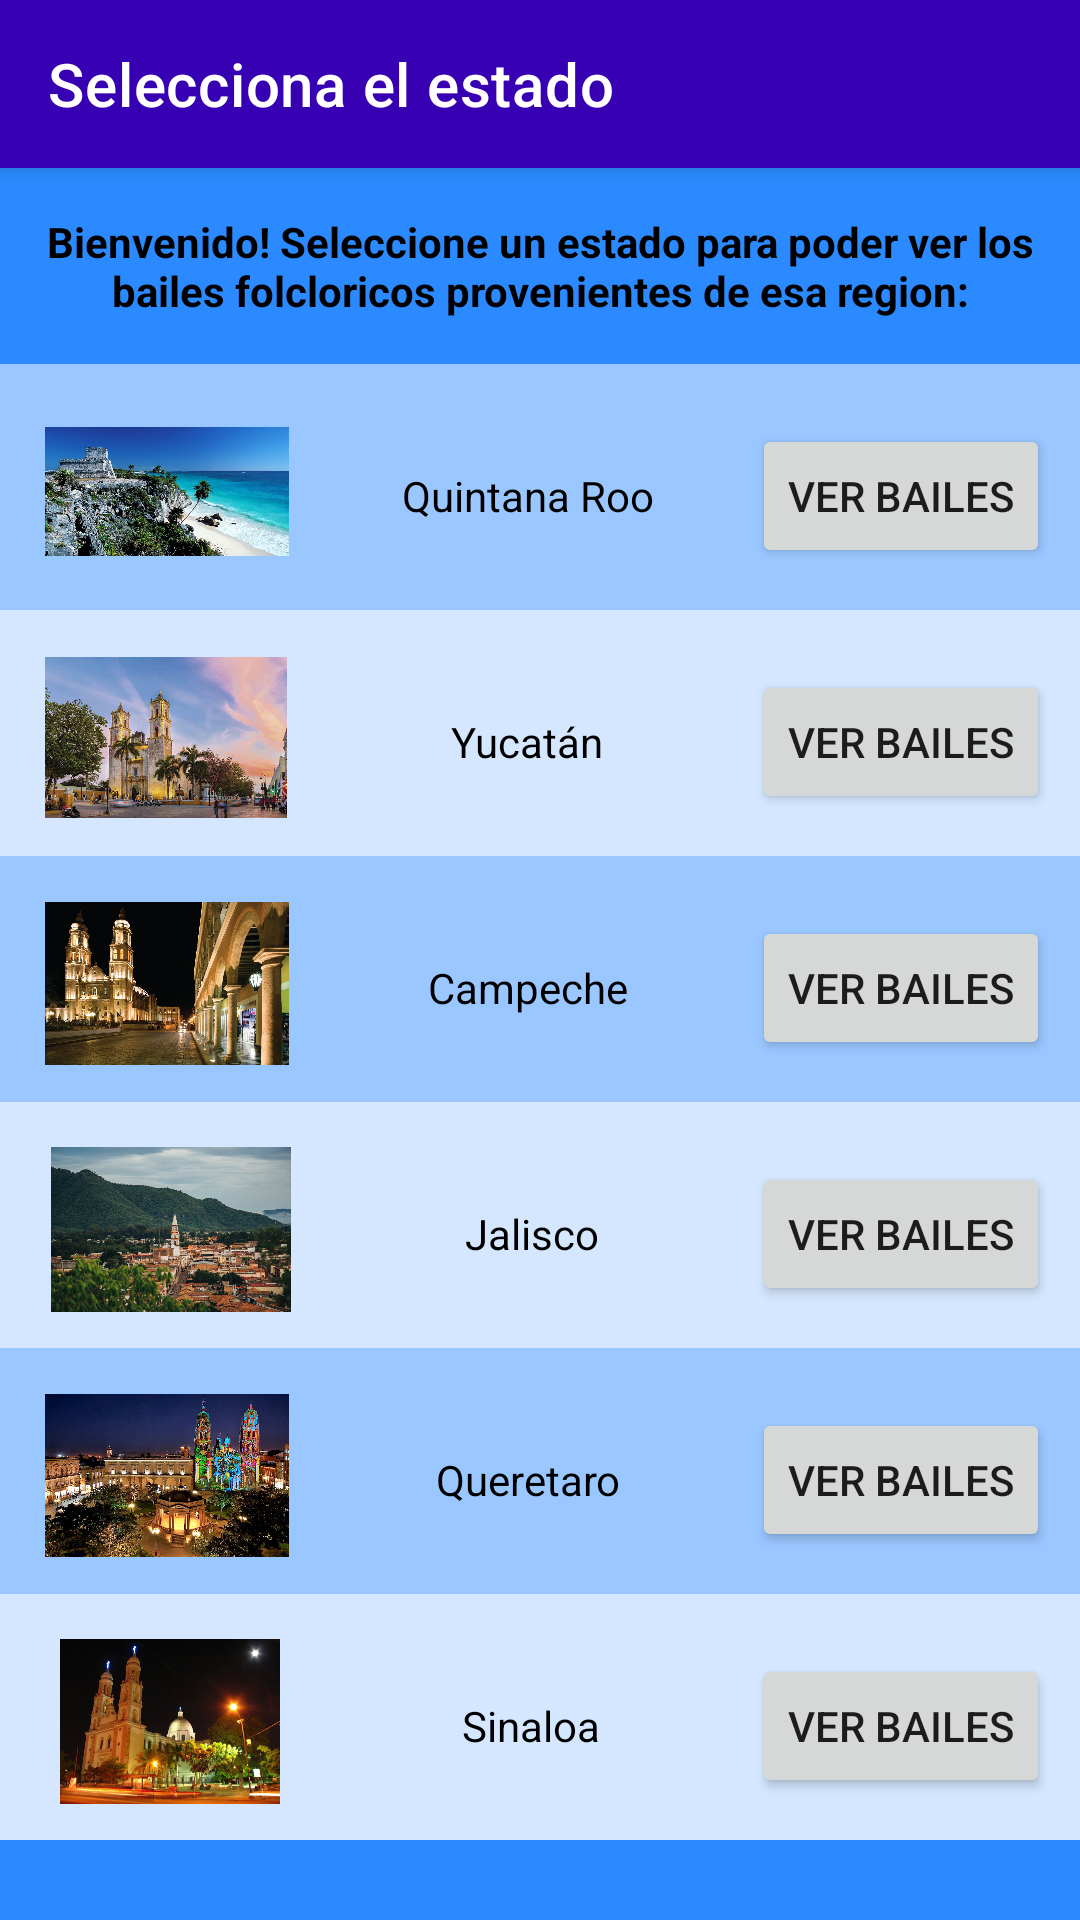

Icons on this 1080w x 1920h Android screen, each with the point to tap as (x,y):
yucatan: (166,737)
